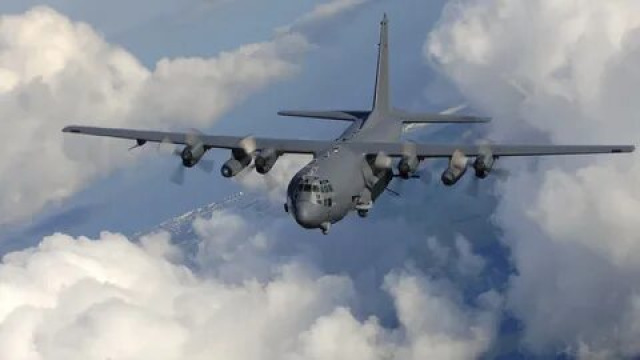military drone: (61, 11, 635, 234)
